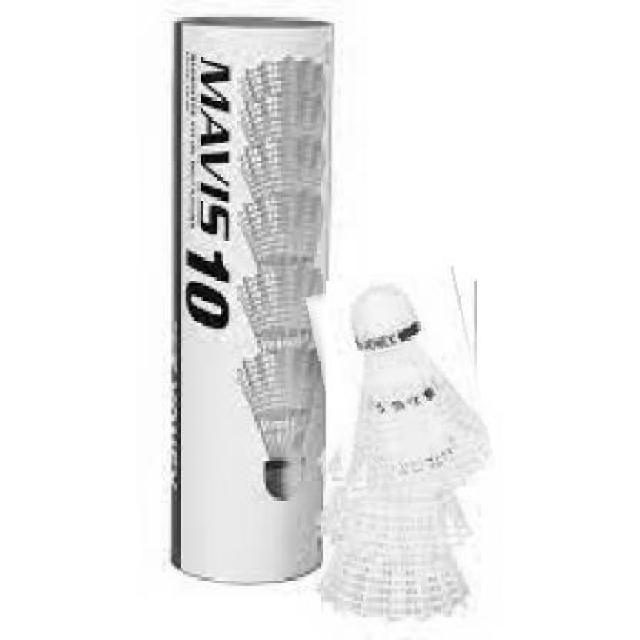Shuttlecock: (317, 274, 486, 492)
